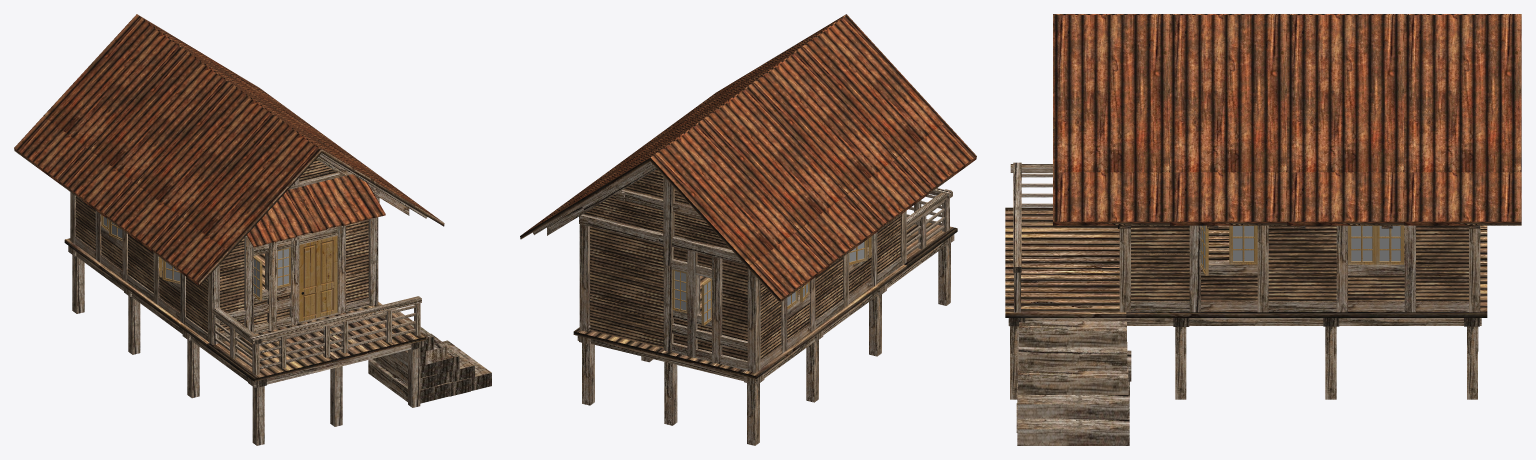
File: uploads_files_4374175_The+Wooden+House.fbx
3 renders of one model, left to right at view 1: azimuth 30°, elevation 25°; view 2: azimuth 150°, elevation 25°; view 3: azimuth 270°, elevation 25°, orthographic. The views are drawn at different scales.
Parts seen in each view (by area): view 1: main roof, walls, base 3, base2, base1, roof 2, stairs, door, roof base1, window front right; view 2: main roof, walls, base 3, base2, base1, roof base1, window rear right, window rear left; view 3: main roof, walls, base2, stairs, base 3, base1, window1 left, window2 left, window2 right.
Part boxes in pixels (x1,y1,x2,y2): main roof: [14, 14, 444, 286]; walls: [70, 159, 379, 344]; base 3: [68, 246, 423, 445]; base2: [64, 238, 426, 381]; base1: [212, 296, 421, 375]; roof 2: [246, 174, 385, 247]; stairs: [368, 309, 491, 403]; door: [299, 235, 337, 321]; roof base1: [316, 153, 427, 218]; window front right: [277, 247, 290, 288]; main roof: [520, 14, 976, 302]; walls: [579, 169, 906, 372]; base 3: [577, 234, 954, 445]; base2: [573, 222, 957, 379]; base1: [906, 188, 952, 255]; roof base1: [533, 161, 656, 235]; window rear right: [672, 269, 687, 313]; window rear left: [701, 278, 711, 325]; main roof: [1053, 14, 1521, 225]; walls: [1119, 225, 1480, 312]; base2: [1005, 207, 1487, 317]; stairs: [1016, 321, 1131, 445]; base 3: [1008, 318, 1481, 399]; base1: [1010, 162, 1052, 312]; window1 left: [1229, 225, 1257, 264]; window2 left: [1376, 225, 1404, 264]; window2 right: [1348, 225, 1375, 264].
Bounding box in the file's own units: 1026 × 930 × 1297.
